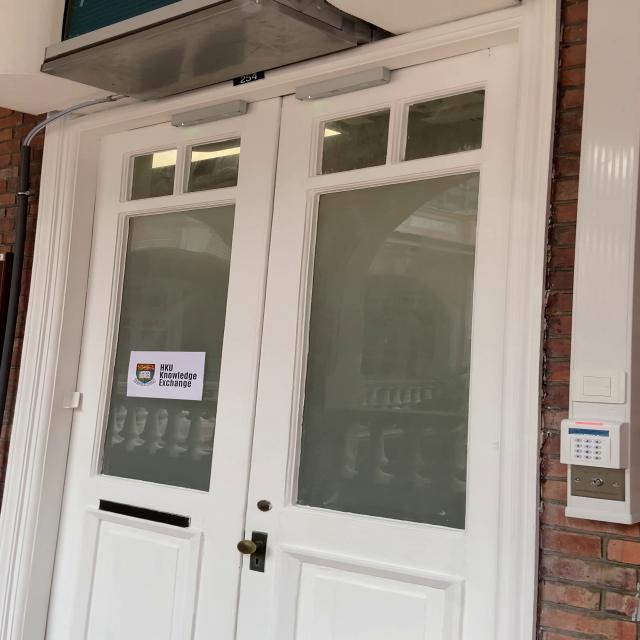room254: (230, 70, 266, 87)
